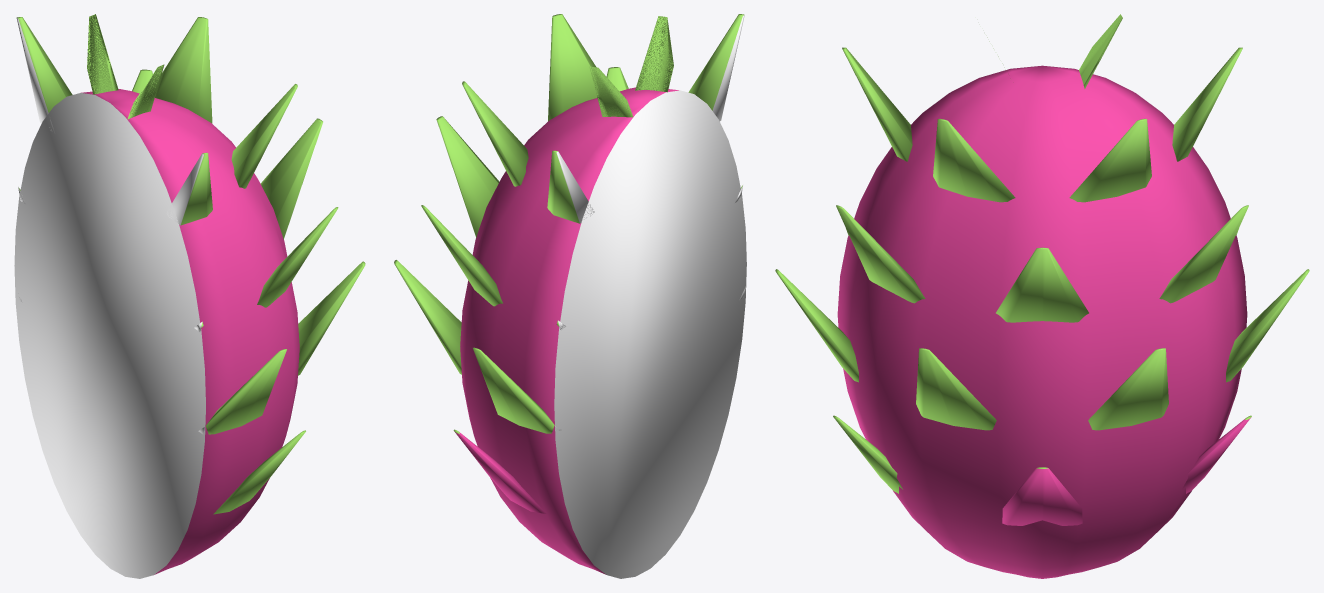
Rendered from Dragonfruit_Half_A.fbx.
The picture shows the model from 3 angles, left to right: view 1: azimuth 30°, elevation 25°; view 2: azimuth 150°, elevation 25°; view 3: azimuth 270°, elevation 25°; orthographic projection. The views are drawn at different scales.
Parts seen in each view (by area): view 1: Dragonfruit_Half_A; view 2: Dragonfruit_Half_A; view 3: Dragonfruit_Half_A.
Part boxes in pixels (x1,y1,x2,y2): Dragonfruit_Half_A: [14, 14, 365, 578]; Dragonfruit_Half_A: [394, 14, 746, 578]; Dragonfruit_Half_A: [775, 14, 1309, 578].
Bounding box in the file's own units: 0.5749 × 1.35 × 1.18.
